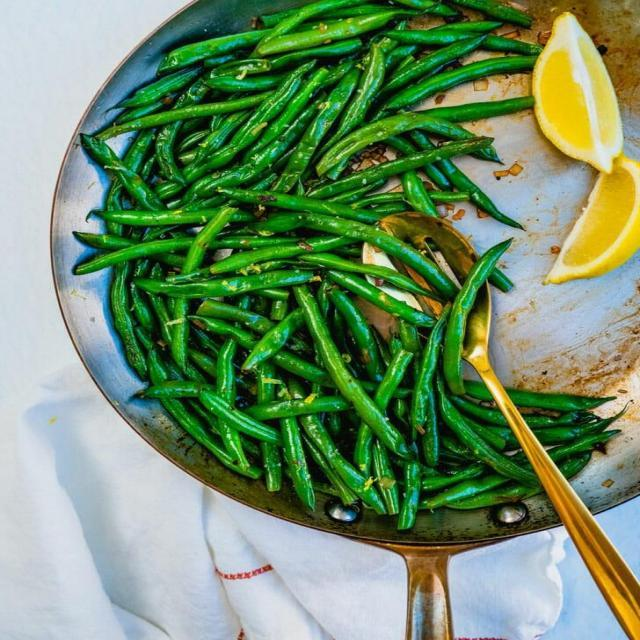Beans: (71, 0, 607, 532)
